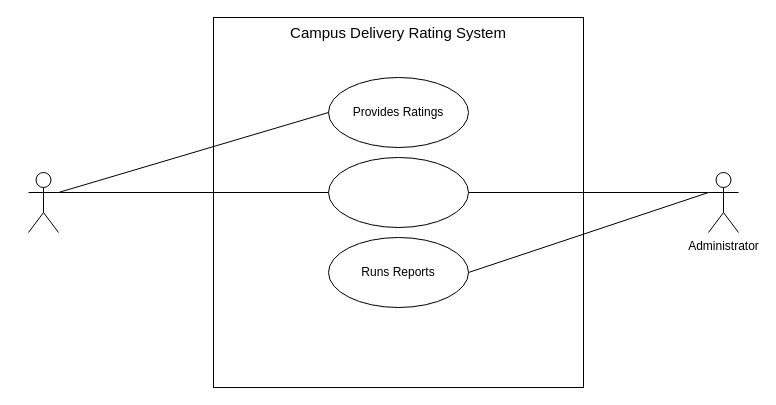
Image size: 776x405. Some labels were removed from this diagram. The shapes that lost their labels are listed below. From the top down, each one's centre as x and y in pixels, then its label:
the point at 43,202: Customer
the point at 398,192: Reviews Ratings
